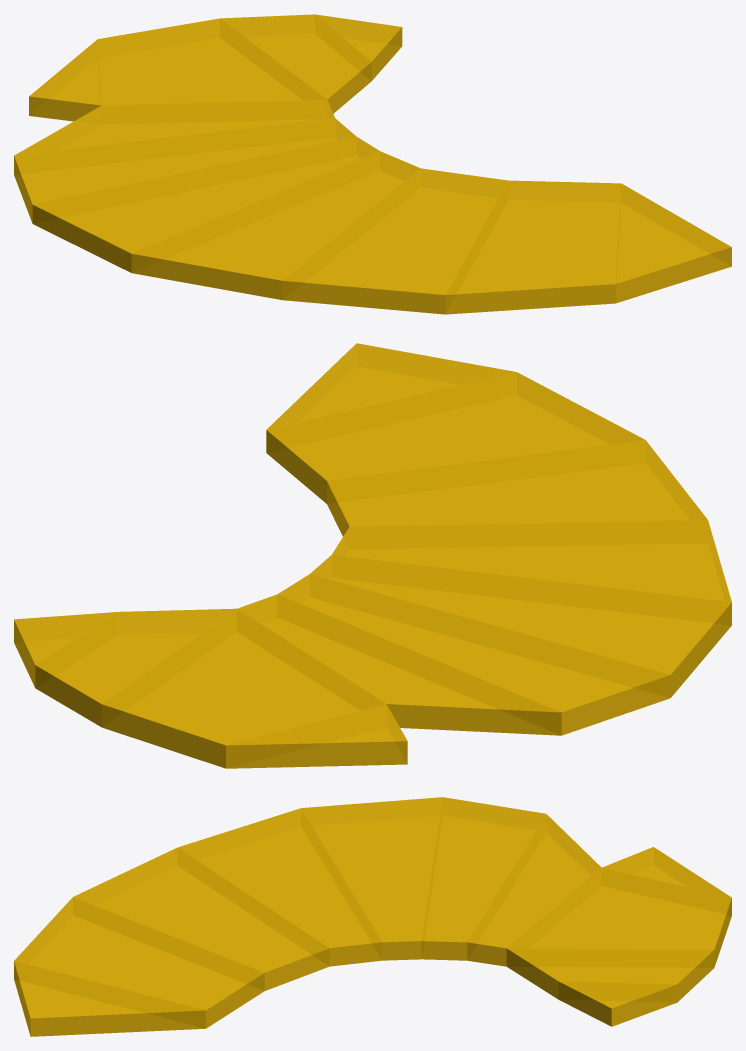
Rendered from SM_Bld_Dock_Preset_02_Collision.fbx.
3 renders of one model, top to bottom at view 1: azimuth 30°, elevation 25°; view 2: azimuth 150°, elevation 25°; view 3: azimuth 270°, elevation 25°, orthographic. The views are drawn at different scales.
Visible parts, largest first — view 1: SM_Bld_Dock_Preset_02_Collision; view 2: SM_Bld_Dock_Preset_02_Collision; view 3: SM_Bld_Dock_Preset_02_Collision.
Boxes of the visible parts, x1=… form: SM_Bld_Dock_Preset_02_Collision: x1=14, y1=14, x2=731, y2=314; SM_Bld_Dock_Preset_02_Collision: x1=14, y1=343, x2=731, y2=768; SM_Bld_Dock_Preset_02_Collision: x1=14, y1=797, x2=731, y2=1036.
Size of the model in its own units: 1007 by 38.88 by 1380.
